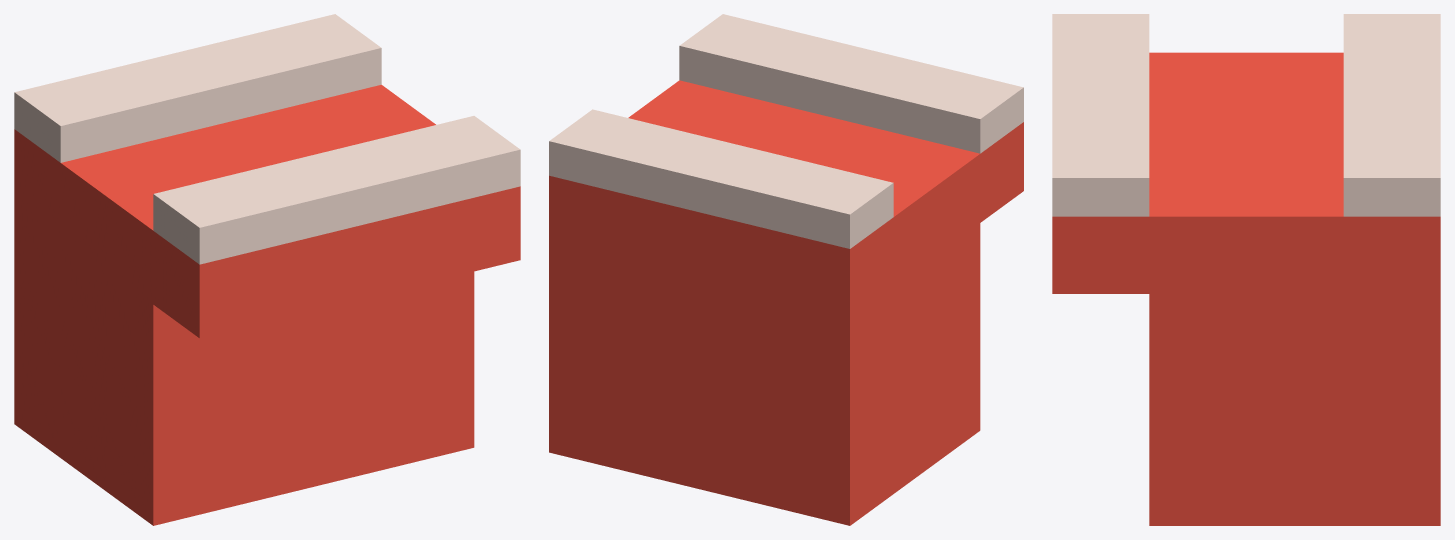
The model's file is Wall_Top_05.fbx.
3 renders of one model, left to right at view 1: azimuth 30°, elevation 25°; view 2: azimuth 150°, elevation 25°; view 3: azimuth 270°, elevation 25°, orthographic. The views are drawn at different scales.
Visible parts, largest first — view 1: Cube.317; view 2: Cube.317; view 3: Cube.317.
Boxes of the visible parts, x1,y1,x2,y2 form: Cube.317: (14, 14, 520, 525); Cube.317: (549, 14, 1023, 525); Cube.317: (1052, 14, 1440, 525).
Bounding box in the file's own units: 100 × 98.87 × 100.
